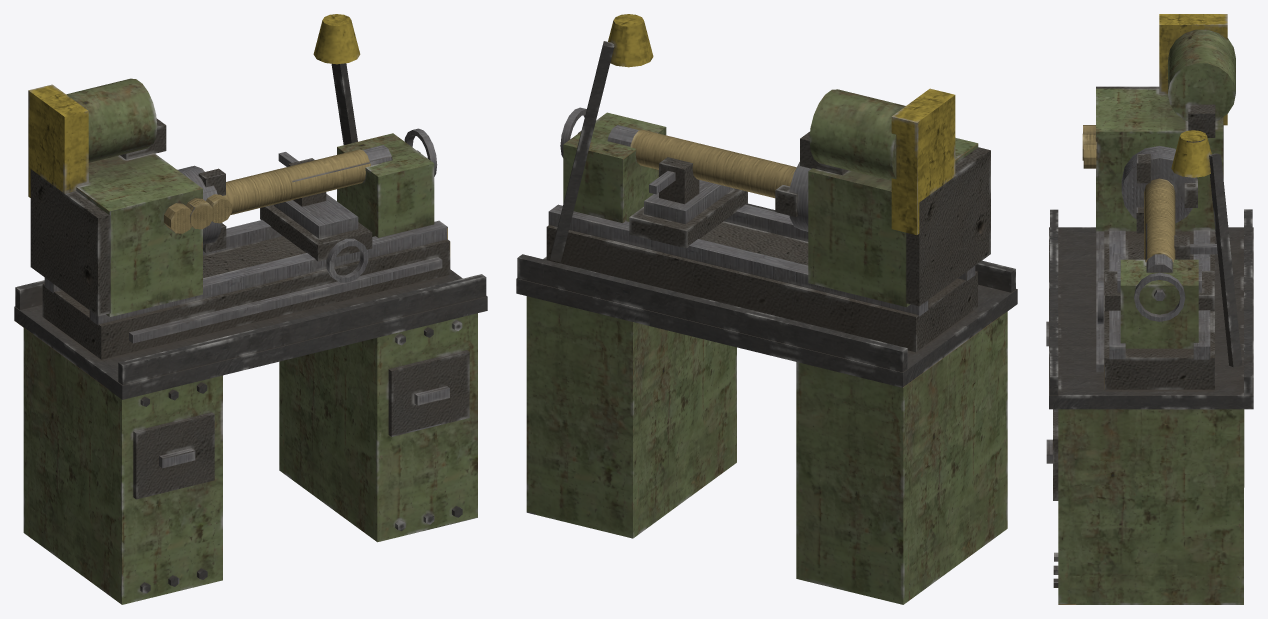
Rendered from feM_Lathe_HD.fbx.
3 renders of one model, left to right at view 1: azimuth 30°, elevation 25°; view 2: azimuth 150°, elevation 25°; view 3: azimuth 270°, elevation 25°, orthographic. The views are drawn at different scales.
Visible parts, largest first — view 1: feM_Lathe_Base, FeSpin_x4_Chuck, FePiston_Carriage; view 2: feM_Lathe_Base, FeSpin_x4_Chuck, FePiston_Carriage; view 3: feM_Lathe_Base, FeSpin_x4_Chuck, FePiston_Carriage.
Part boxes in pixels (left/top/right/bottom): feM_Lathe_Base: left=14, top=14, right=487, bottom=604; FeSpin_x4_Chuck: left=177, top=149, right=370, bottom=252; FePiston_Carriage: left=260, top=152, right=372, bottom=282; feM_Lathe_Base: left=516, top=14, right=1017, bottom=604; FeSpin_x4_Chuck: left=630, top=129, right=811, bottom=231; FePiston_Carriage: left=629, top=157, right=747, bottom=248; feM_Lathe_Base: left=1046, top=14, right=1253, bottom=604; FeSpin_x4_Chuck: left=1121, top=146, right=1197, bottom=262; FePiston_Carriage: left=1097, top=235, right=1217, bottom=324.
Bounding box in the file's own units: 0.9448 × 1.14 × 0.4908.
Materials: 1 (1 with a texture image).
